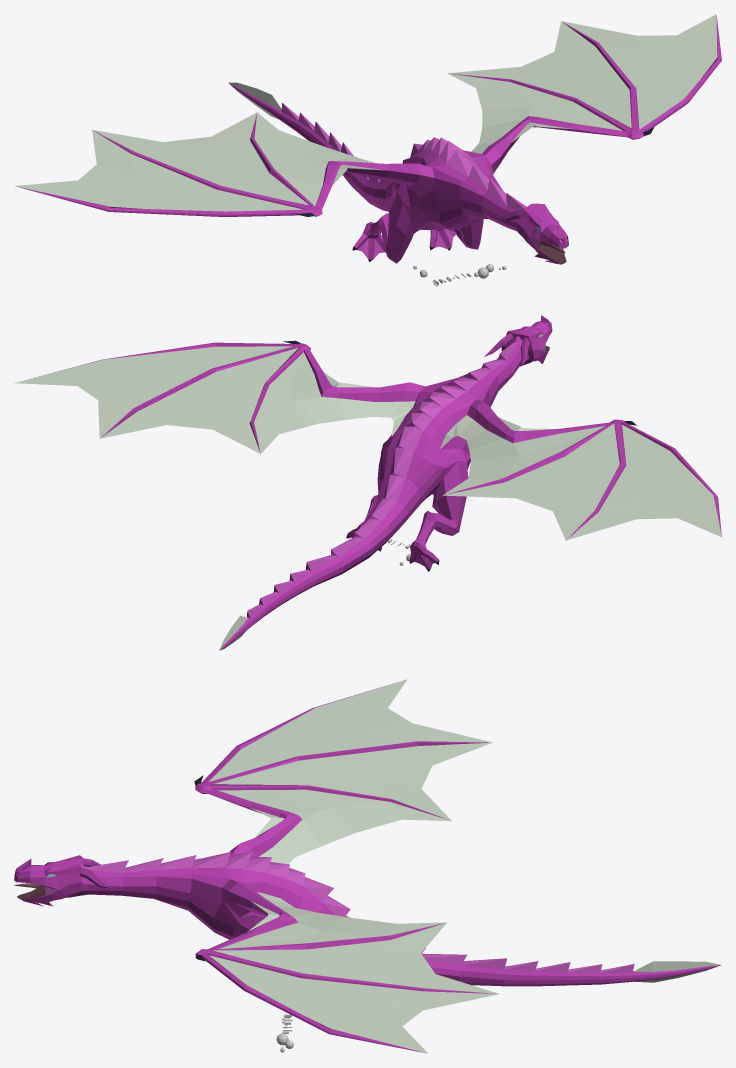
Rendered from dragon.obj.
The picture shows the model from 3 angles, top to bottom: view 1: azimuth 30°, elevation 25°; view 2: azimuth 150°, elevation 25°; view 3: azimuth 270°, elevation 25°; orthographic projection. The views are drawn at different scales.
Parts seen in each view (by area): view 1: Cylinder; view 2: Cylinder; view 3: Cylinder.
Part boxes in pixels (x1=…): Cylinder: x1=15, y1=14, x2=721, y2=264; Cylinder: x1=14, y1=315, x2=721, y2=650; Cylinder: x1=14, y1=679, x2=721, y2=1053.
Bounding box in the file's own units: 93.73 × 20.11 × 76.82.
Materials: 2 (1 with a texture image).
